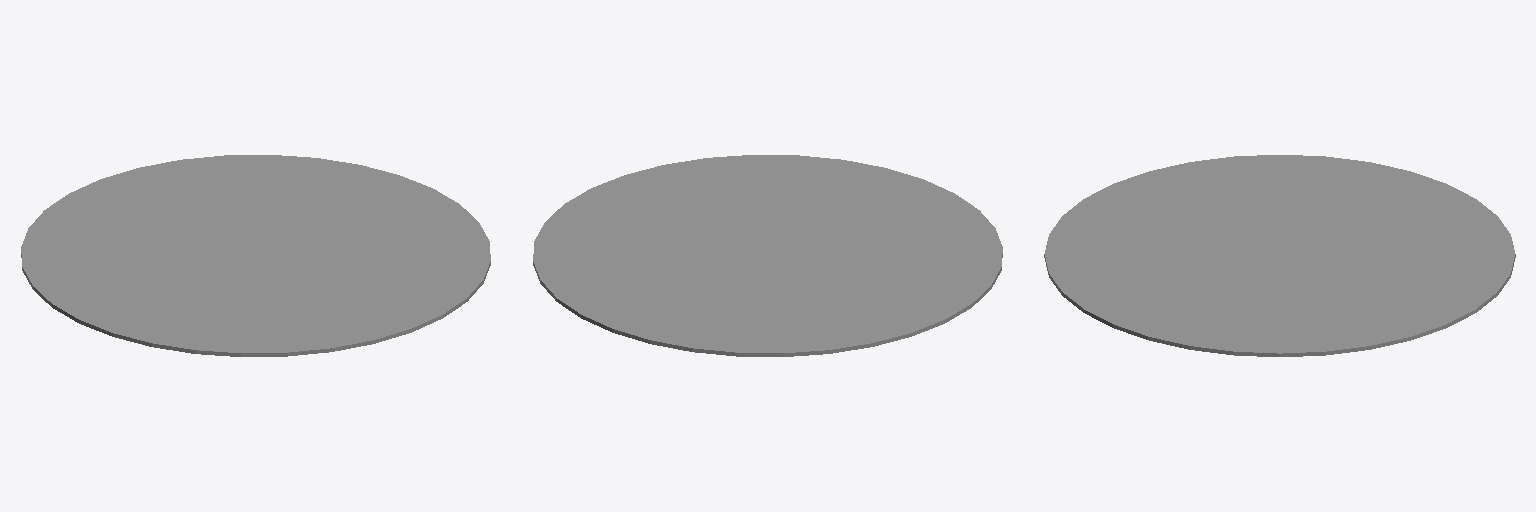
Rendered from TestingGround.obj.
3 renders of one model, left to right at view 1: azimuth 30°, elevation 25°; view 2: azimuth 150°, elevation 25°; view 3: azimuth 270°, elevation 25°, orthographic.
Parts seen in each view (by area): view 1: Outside_Cylinder.001; view 2: Outside_Cylinder.001; view 3: Outside_Cylinder.001.
Boxes of the visible parts, x1,y1,x2,y2 form: Outside_Cylinder.001: [21, 155, 490, 356]; Outside_Cylinder.001: [533, 155, 1002, 356]; Outside_Cylinder.001: [1044, 155, 1515, 356].
Size of the model in its own units: 22 by 0.2 by 22.